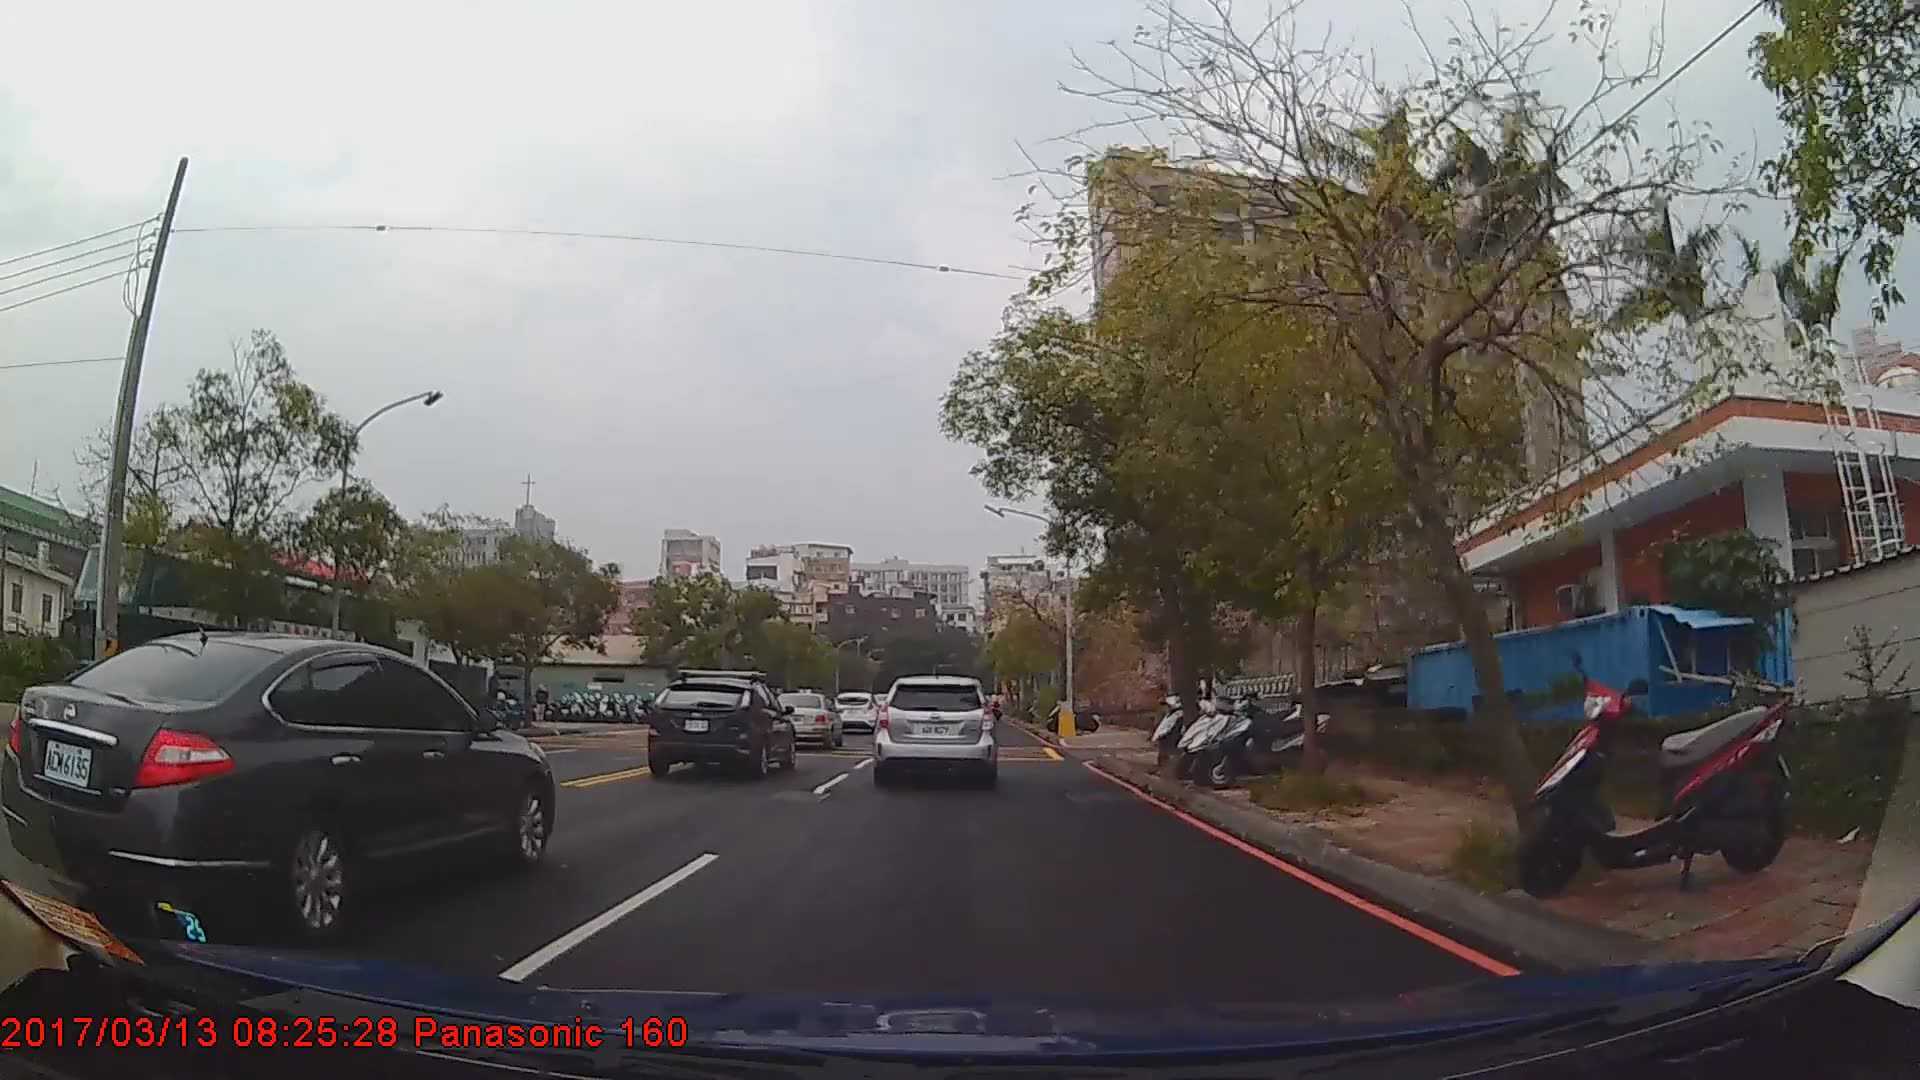vehicle: (0, 626, 556, 938), (54, 535, 394, 745), (644, 673, 796, 779), (876, 671, 1000, 786), (767, 688, 841, 750), (831, 688, 881, 733)
